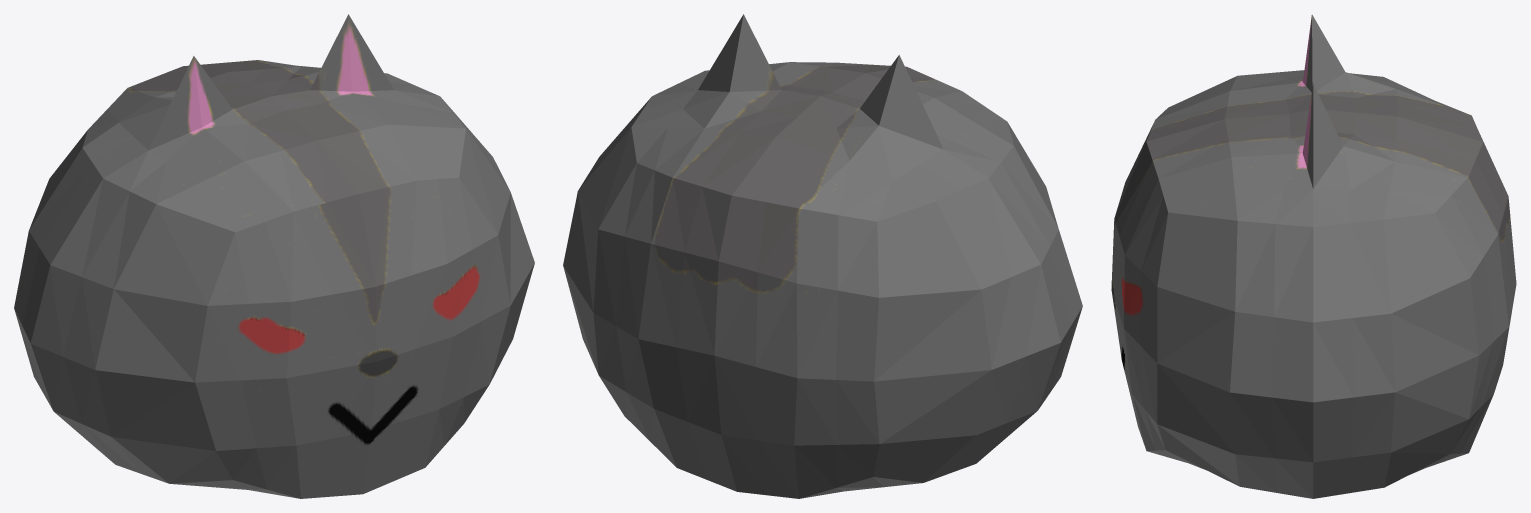
The model's file is float_Head_E.obj.
3 views of the same model, side by side, from view 1: azimuth 30°, elevation 25°; view 2: azimuth 150°, elevation 25°; view 3: azimuth 270°, elevation 25° (orthographic). The views are drawn at different scales.
Parts seen in each view (by area): view 1: 立方体; view 2: 立方体; view 3: 立方体.
Boxes of the visible parts, x1,y1,x2,y2 form: 立方体: (14,14,534,498); 立方体: (563,14,1082,498); 立方体: (1111,14,1516,498).
Size of the model in its own units: 2.03 by 1.71 by 1.54.
